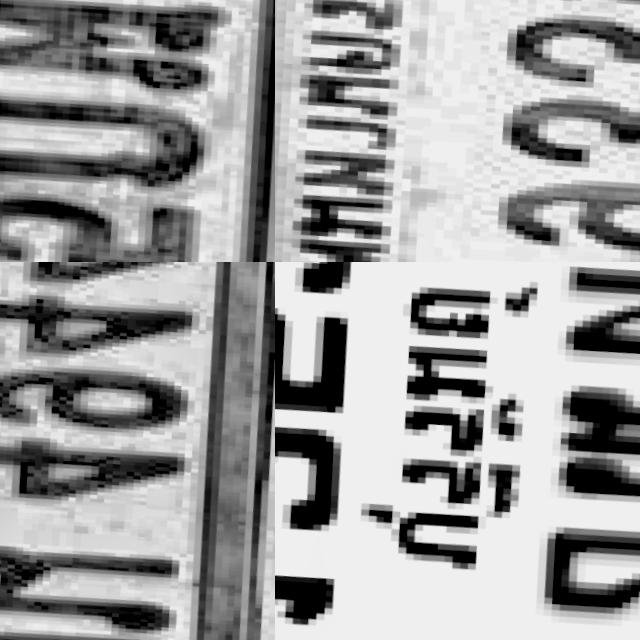license-plate: (275, 262, 640, 640), (0, 262, 275, 640), (275, 0, 640, 262), (0, 0, 275, 262)
